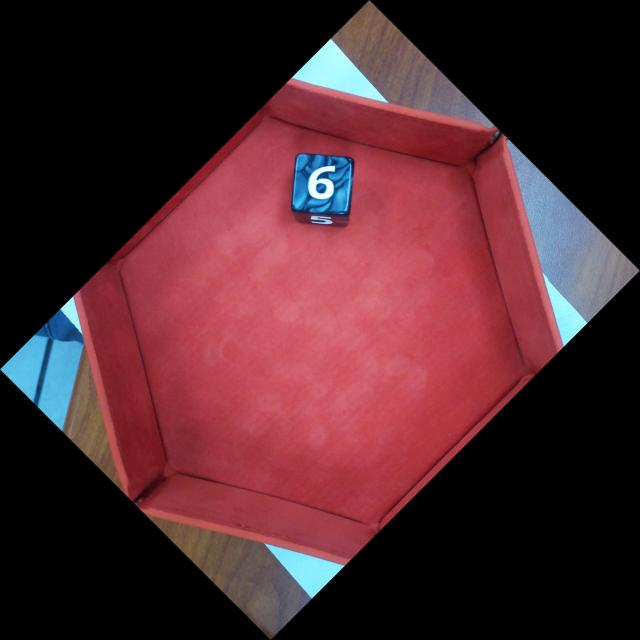dice: (292, 154, 353, 216)
